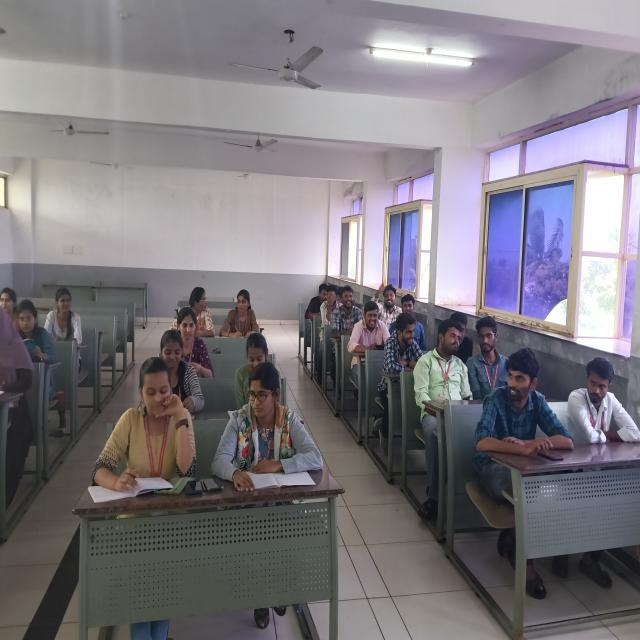Reading: (10, 294, 63, 371)
Using Phone: (158, 329, 210, 417)
Writing: (86, 357, 196, 500), (216, 285, 262, 342)
